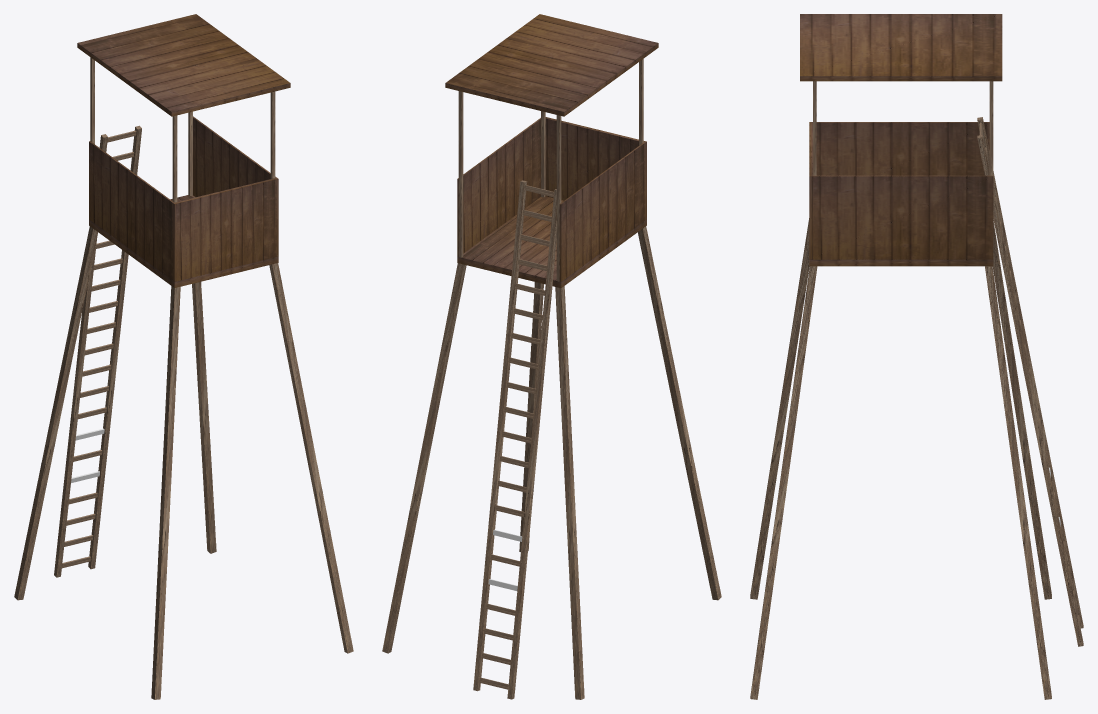
The model's file is HochsitzmitTexture.fbx.
3 renders of one model, left to right at view 1: azimuth 30°, elevation 25°; view 2: azimuth 150°, elevation 25°; view 3: azimuth 270°, elevation 25°, orthographic. The views are drawn at different scales.
Parts seen in each view (by area): view 1: Dach, Vorne, Rechts, Box003, Box005, Box002, Links, Box004, Box006, Box007, Platt; view 2: Dach, Rechts, Links, Platt, Vorne, Box002, Box004, Box003, Box007, Box006, Box005, Stange hinten links (+1 smaller); view 3: Links, Dach, Rechts, Box005, Box004, Box006, Box003, Box002, Box007, Platt, Vorne.
Part boxes in pixels (left/top/right/bottom): Dach: left=77, top=14, right=290, bottom=116; Vorne: left=173, top=178, right=276, bottom=281; Rechts: left=89, top=141, right=175, bottom=281; Box003: left=151, top=286, right=180, bottom=699; Box005: left=269, top=263, right=353, bottom=653; Box002: left=14, top=226, right=97, bottom=600; Links: left=193, top=116, right=278, bottom=256; Box004: left=192, top=282, right=216, bottom=553; Box006: left=88, top=125, right=141, bottom=569; Box007: left=54, top=134, right=107, bottom=577; Platt: left=89, top=195, right=278, bottom=287; Dach: left=445, top=14, right=658, bottom=116; Rechts: left=559, top=142, right=645, bottom=281; Links: left=457, top=118, right=540, bottom=256; Platt: left=457, top=196, right=646, bottom=287; Vorne: left=545, top=117, right=646, bottom=219; Box002: left=555, top=286, right=584, bottom=699; Box004: left=382, top=263, right=466, bottom=653; Box003: left=638, top=226, right=721, bottom=600; Box007: left=507, top=189, right=556, bottom=699; Box006: left=473, top=180, right=527, bottom=691; Box005: left=519, top=282, right=543, bottom=552; Stange hinten links: left=458, top=91, right=463, bottom=257; Links: left=813, top=175, right=993, bottom=259; Dach: left=800, top=14, right=1002, bottom=81; Rechts: left=816, top=122, right=989, bottom=175; Box005: left=750, top=266, right=817, bottom=699; Box004: left=985, top=266, right=1051, bottom=699; Box006: left=977, top=135, right=1083, bottom=646; Box003: left=750, top=218, right=809, bottom=599; Box002: left=992, top=220, right=1051, bottom=599; Box007: left=977, top=117, right=1083, bottom=628; Platt: left=809, top=259, right=993, bottom=266; Vorne: left=809, top=122, right=812, bottom=259.
Bounding box in the file's own units: 134 × 363 × 181.
Materials: 2 (2 with a texture image).
